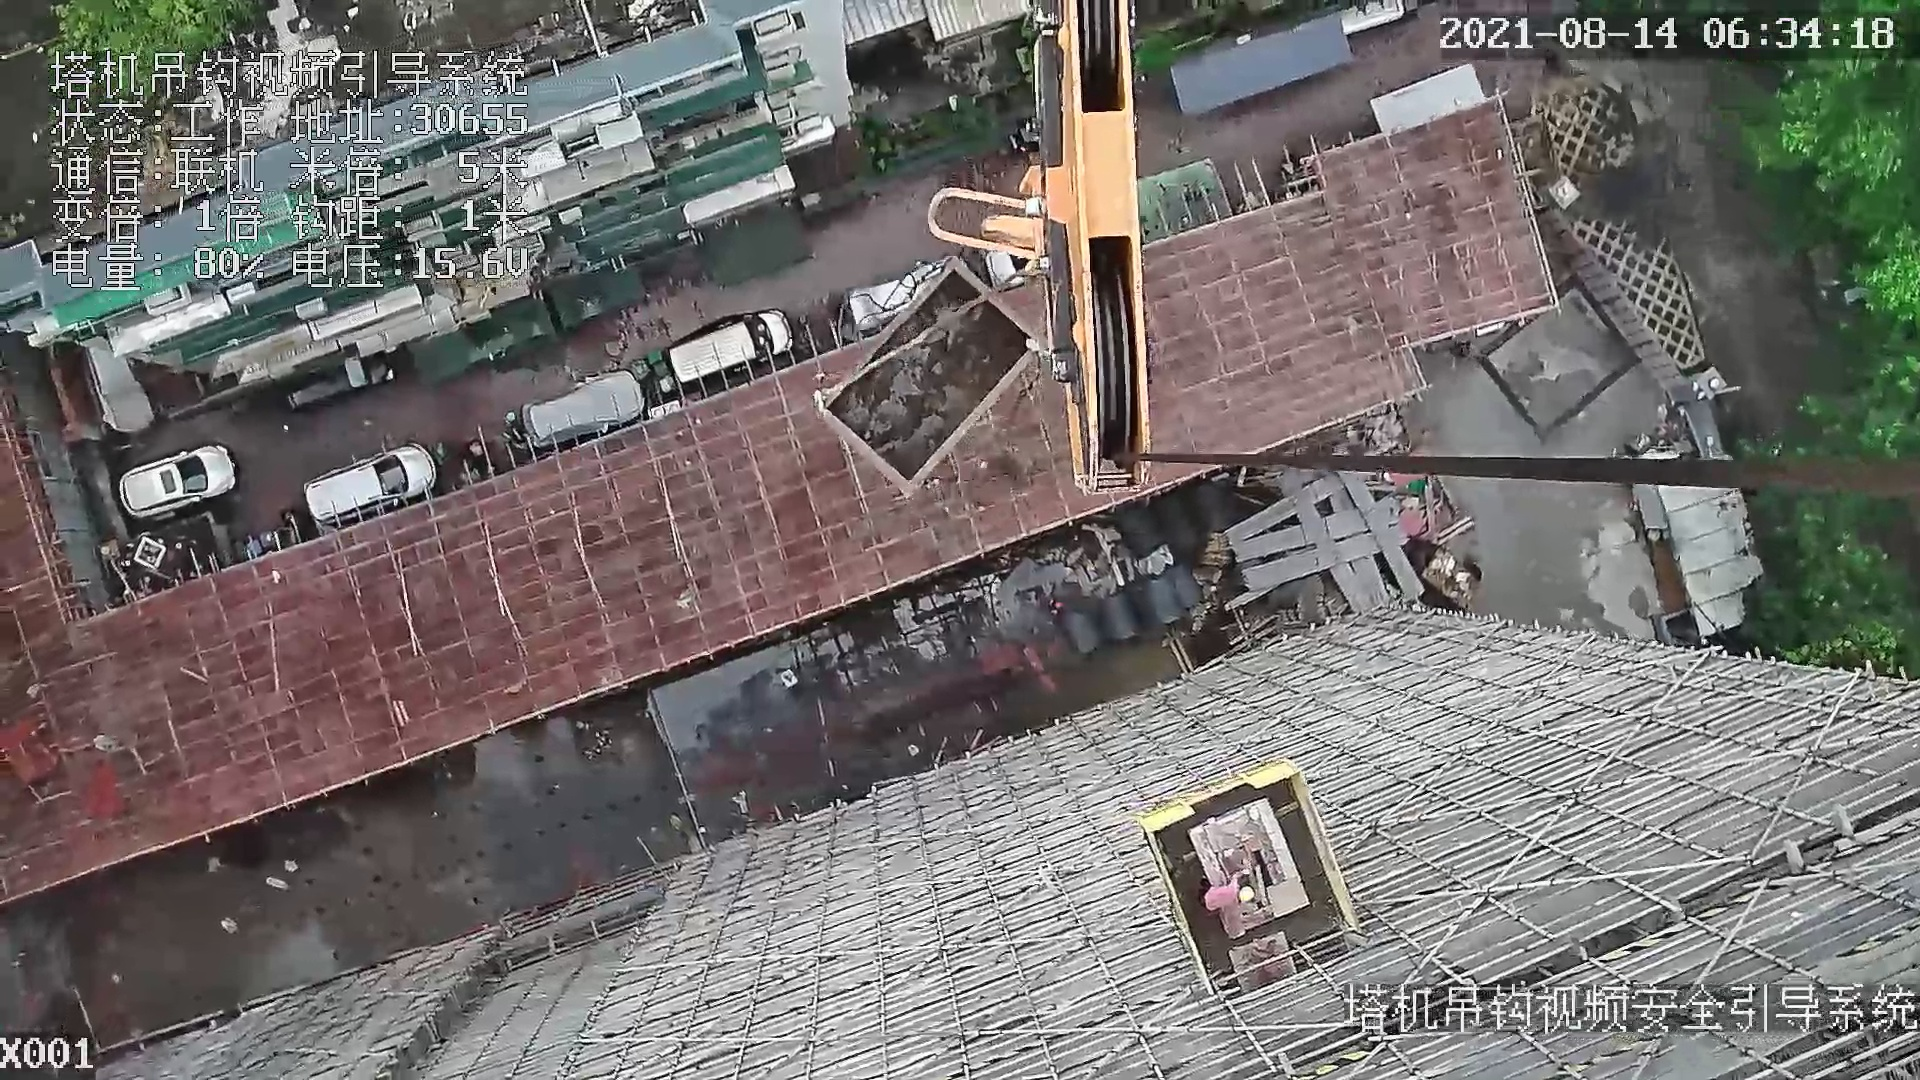helmet: (1240, 886, 1258, 906)
hook: (927, 1, 1154, 496)
hopper: (796, 262, 1046, 505)
person: (1191, 863, 1268, 923)
